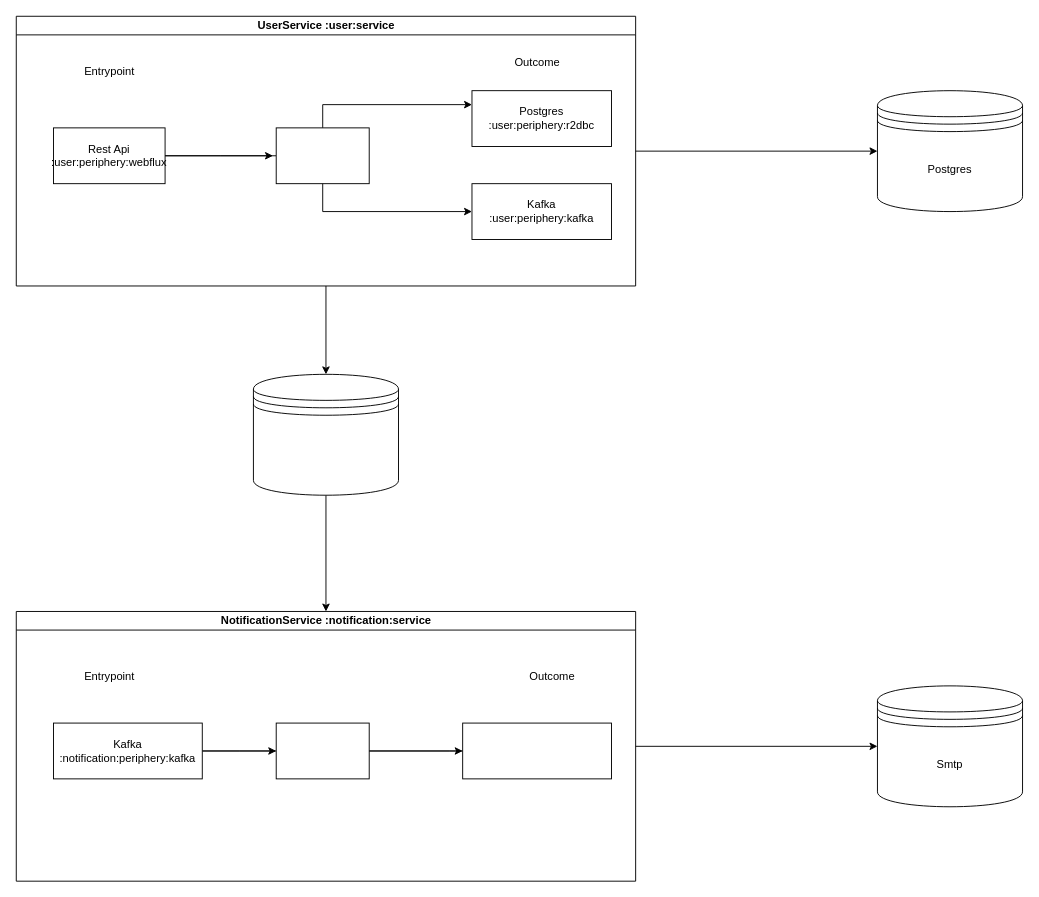
Image size: 1039x897. Some labels were removed from this diagram. Here are the shapes that lost their labels. From the top down, the centre of each, then its label:
At (322,155): "Core :user:core".
At (325,434): "Kafka".
At (322,750): "Core :notification:core".
At (536,750): "Smtp :notification:periphery:smtp".
